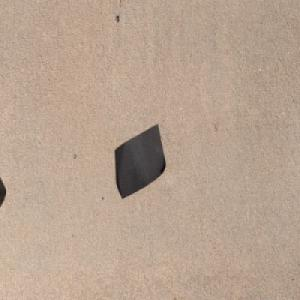PaintChip: (114, 122, 166, 200)
